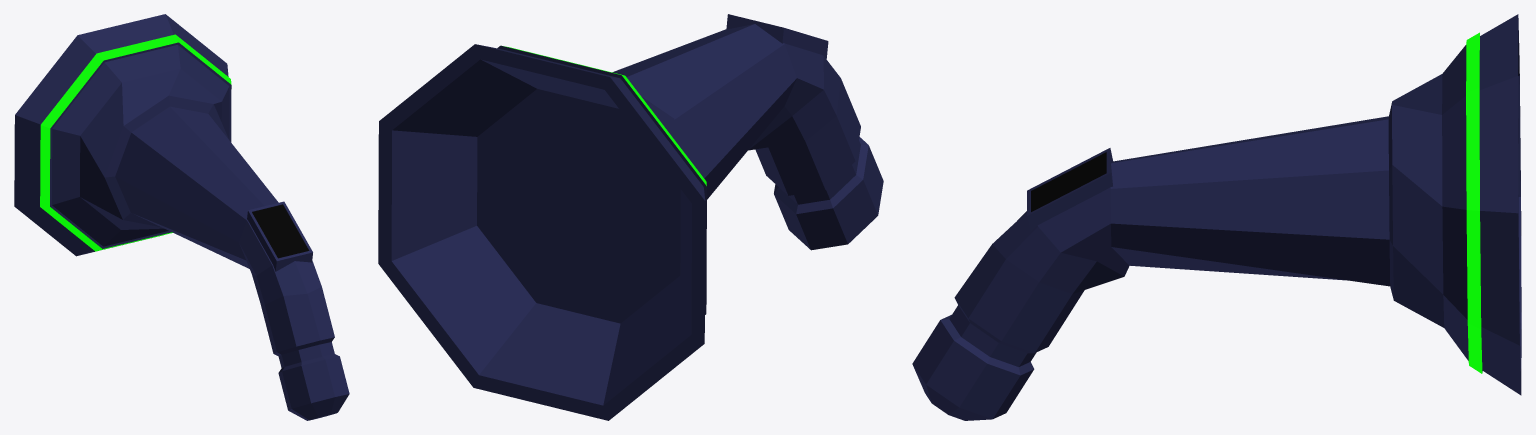
File: BoopGun.fbx
The picture shows the model from 3 angles, left to right: view 1: azimuth 30°, elevation 25°; view 2: azimuth 150°, elevation 25°; view 3: azimuth 270°, elevation 25°; orthographic projection. The views are drawn at different scales.
Parts seen in each view (by area): view 1: BoopGun, BoopGunRing, BoopGunScreen; view 2: BoopGun, BoopGunRing; view 3: BoopGun, BoopGunRing, BoopGunScreen.
Part boxes in pixels (left/top/right/bottom): BoopGun: left=14, top=14, right=349, bottom=420; BoopGunRing: left=40, top=34, right=231, bottom=251; BoopGunScreen: left=252, top=204, right=308, bottom=258; BoopGun: left=378, top=14, right=883, bottom=420; BoopGunRing: left=503, top=46, right=706, bottom=185; BoopGun: left=912, top=14, right=1521, bottom=420; BoopGunRing: left=1466, top=32, right=1482, bottom=373; BoopGunScreen: left=1031, top=152, right=1106, bottom=211.
Size of the model in its own units: 38.99 by 45.14 by 67.29.
